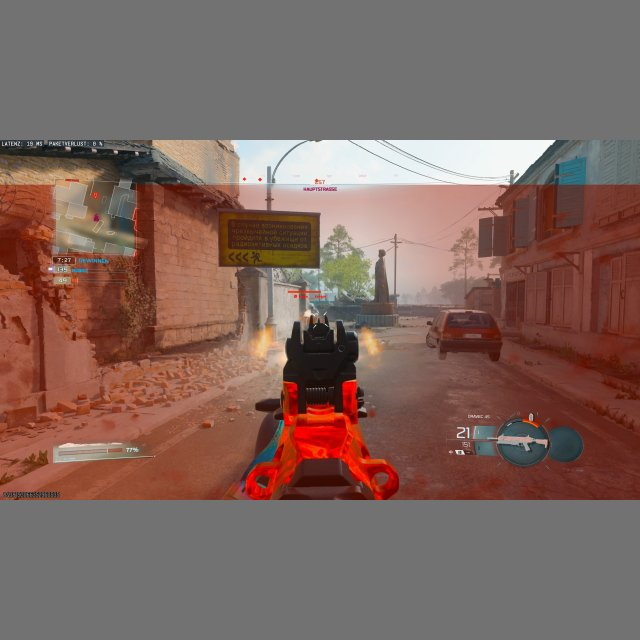player: (304, 303, 317, 322)
